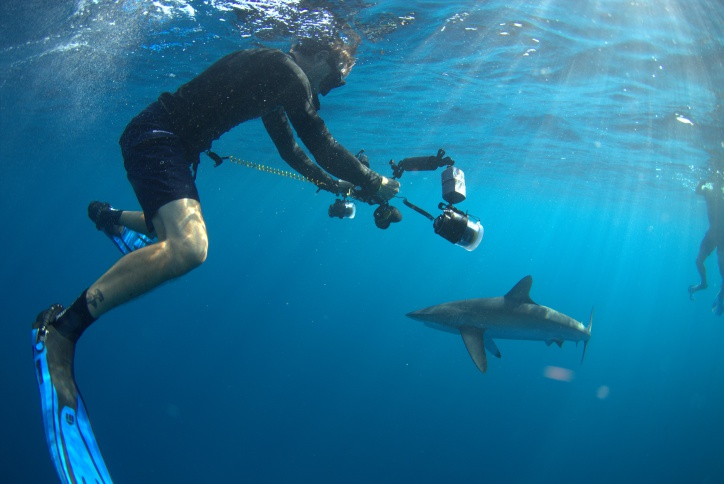Sedoso: (391, 272, 607, 377)
